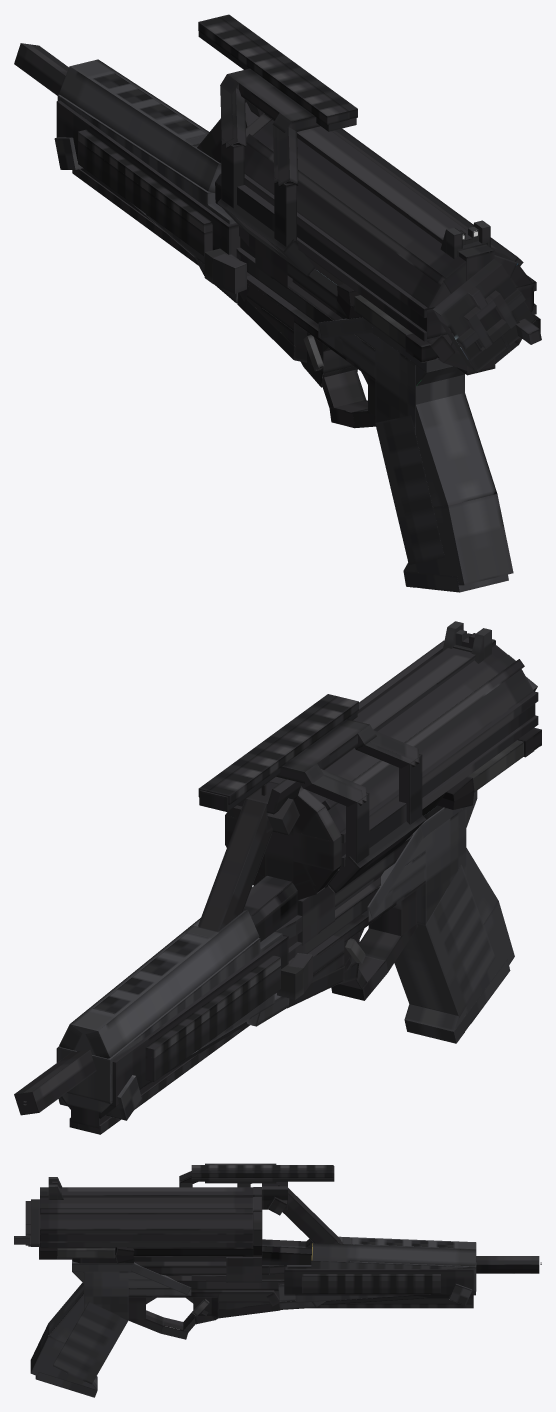
The picture shows the model from 3 angles, top to bottom: view 1: azimuth 30°, elevation 25°; view 2: azimuth 150°, elevation 25°; view 3: azimuth 270°, elevation 25°; orthographic projection. The views are drawn at different scales.
Visible parts, largest first — view 1: gun, magazine, scopemount, handguard, trairail, action, lever, button; view 2: gun, magazine, scopemount, handguard, trairail, action, button; view 3: gun, magazine, handguard, trairail, scopemount, button2.
Boxes of the visible parts, x1,y1,x2,y2 form: gun: (14,43,540,592); magazine: (244,119,536,370); scopemount: (198,14,357,276); handguard: (57,59,237,303); trairail: (56,100,240,265); action: (204,248,250,293); lever: (461,318,541,371); button: (354,295,412,348); gun: (14,727,541,1120); magazine: (307,621,538,866); scopemount: (198,694,426,893); handguard: (58,909,289,1112); trairail: (56,935,288,1134); action: (277,953,312,999); button: (468,740,523,791); gun: (30,1181,539,1397); magazine: (25,1177,253,1247); handguard: (278,1236,476,1309); trairail: (284,1261,473,1308); scopemount: (179,1163,334,1187); button2: (57,1248,115,1258).
Bounding box in the file's own units: 58.8 × 175 × 370.
